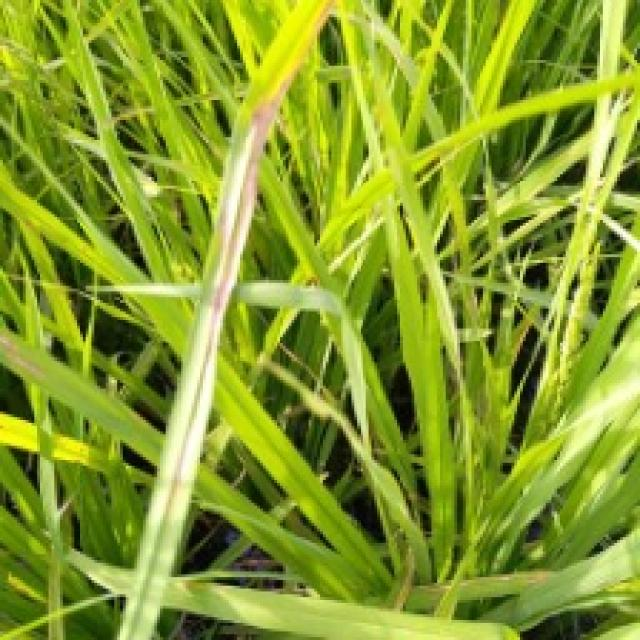Rice___Rice_Blast: (114, 0, 332, 637)
